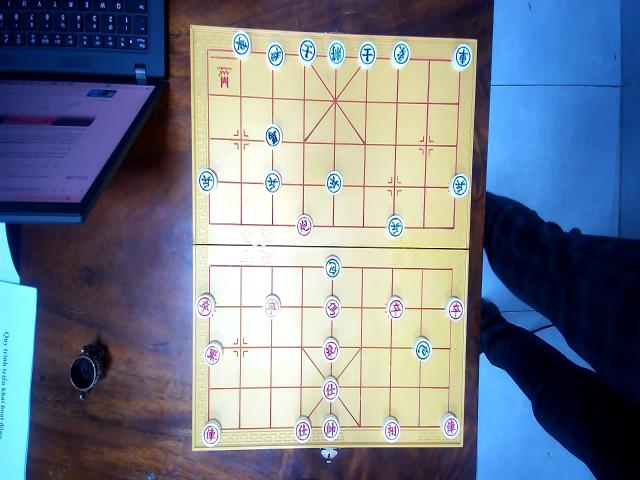piece: (451, 43, 473, 72), (448, 172, 470, 199), (326, 39, 346, 68), (231, 30, 251, 59), (390, 41, 410, 69), (202, 419, 222, 447), (444, 295, 464, 322), (440, 412, 460, 439), (381, 416, 401, 443), (203, 341, 223, 368), (266, 41, 285, 69), (298, 38, 317, 66), (358, 40, 377, 68), (412, 336, 432, 362), (197, 168, 217, 193), (294, 416, 312, 443), (322, 414, 340, 441), (322, 337, 340, 364), (196, 292, 214, 318), (264, 123, 282, 149), (386, 295, 404, 320), (323, 295, 341, 320), (325, 170, 343, 195), (321, 377, 339, 402), (324, 254, 342, 279), (386, 214, 404, 238), (296, 213, 313, 238), (264, 171, 281, 194), (264, 294, 280, 318)
